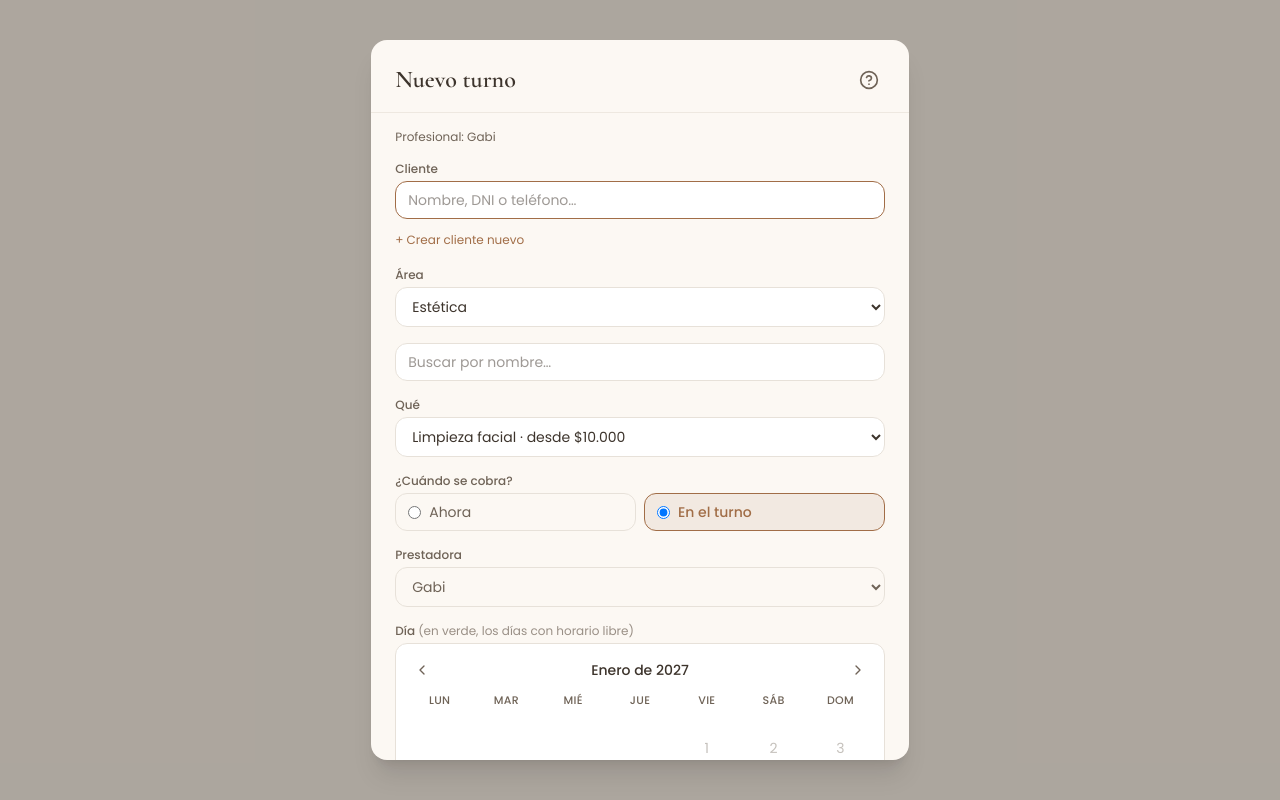
Test: NuevoTurnoModal — día y hora de Agendar (calendario de días libres) › sin hora elegida, Agendar está apagado y 'Hora fin' queda vacía
This screenshot has width=1280, height=800.
Type "an" into the field with placeholder "Nombre, DNI o teléfono…".
click(640, 200); type("an")  # box [395,181,885,219]
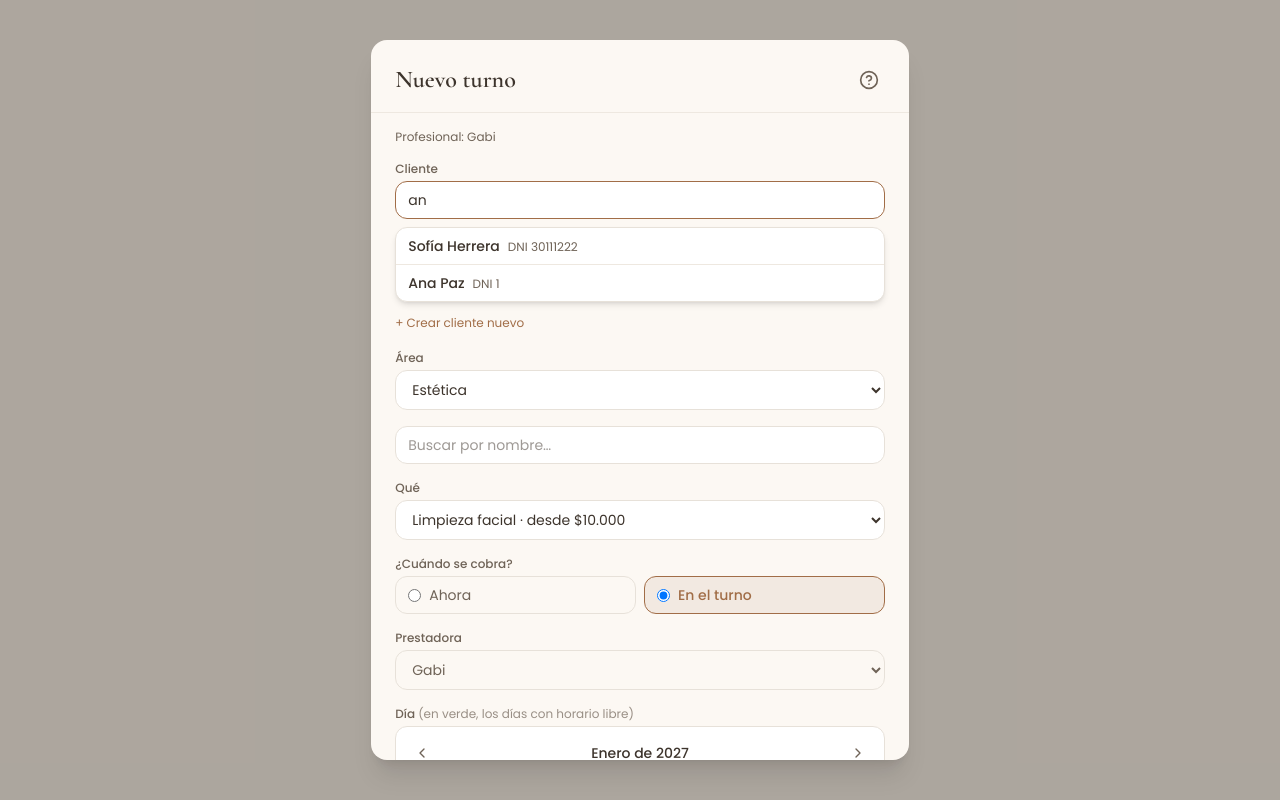
Click the text "Sofía Herrera".
click(454, 246)  # box [408,236,500,256]
(page scrolled)
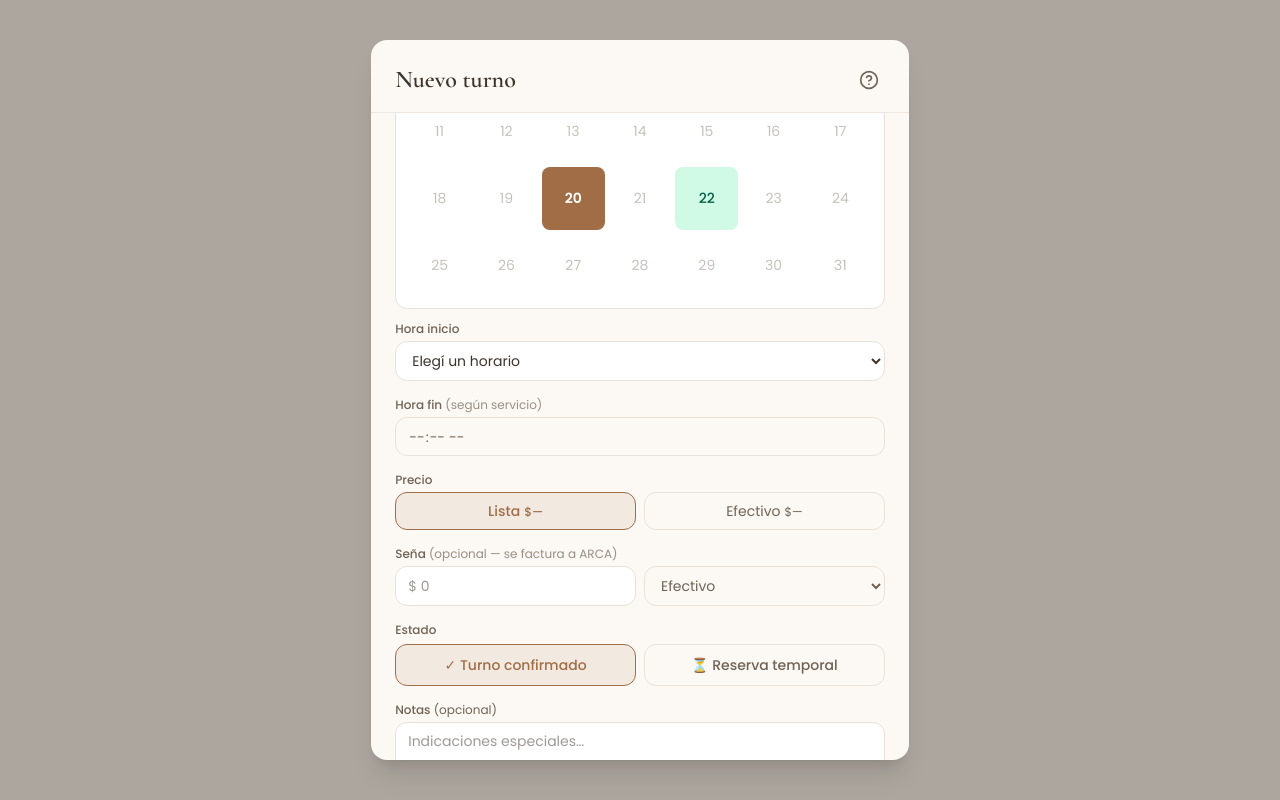
Expected: the dropdown labelled "Hora inicio" shows "Elegí un horario", [395,342,885,382]
Expected: the time field is empty, [395,418,885,456]
